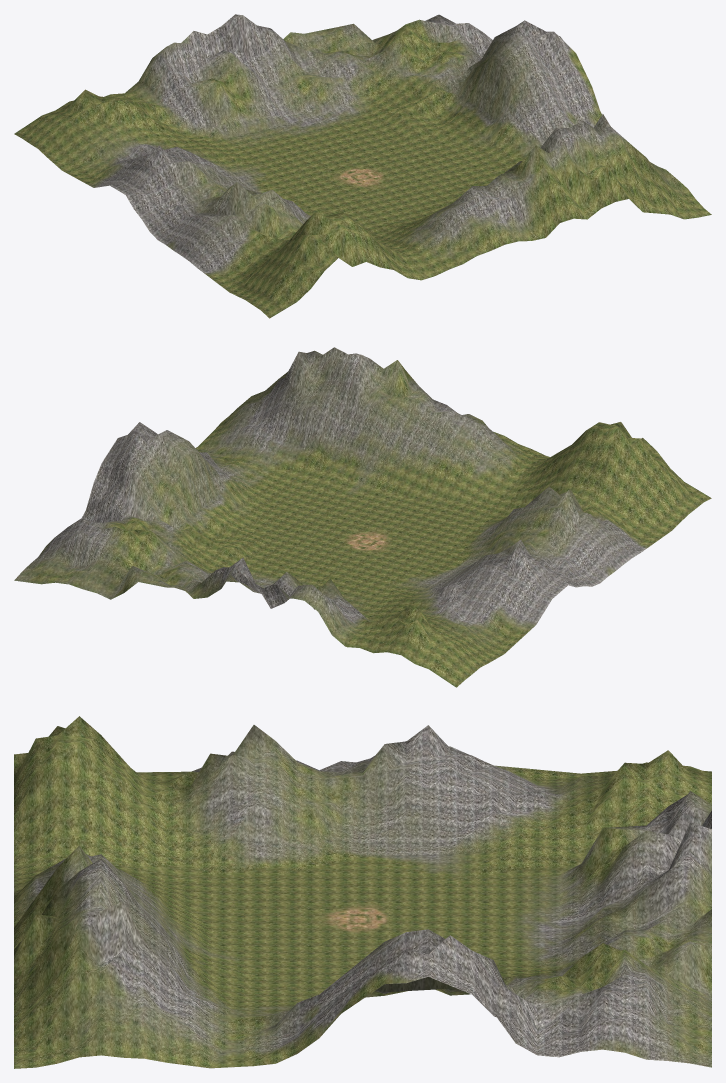
3 views of the same model, one above another, from view 1: azimuth 30°, elevation 25°; view 2: azimuth 150°, elevation 25°; view 3: azimuth 270°, elevation 25° (orthographic). The views are drawn at different scales.
Parts seen in each view (by area): view 1: Mesh; view 2: Mesh; view 3: Mesh.
Part boxes in pixels (x1,y1,x2,y2): Mesh: (14, 14, 711, 318); Mesh: (14, 347, 711, 687); Mesh: (14, 716, 711, 1068).
Bounding box in the file's own units: 700 × 143 × 700.
Materials: 1 (1 with a texture image).
